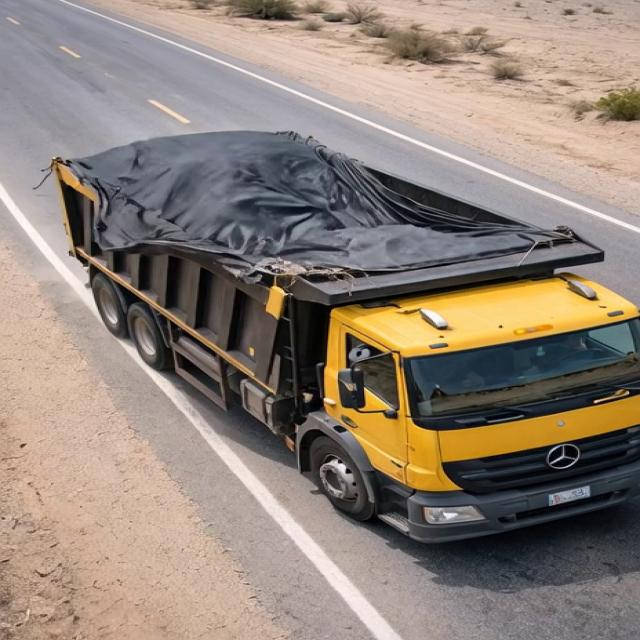trailer: (55, 128, 612, 288)
truck: (26, 97, 635, 529)
